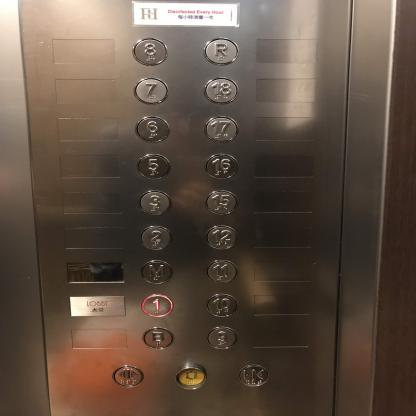1: (138, 292, 175, 319)
10: (204, 291, 240, 318)
11: (204, 258, 240, 285)
12: (204, 224, 241, 251)
15: (204, 189, 240, 216)
16: (204, 152, 241, 180)
17: (202, 115, 239, 143)
18: (202, 76, 240, 105)
2: (138, 224, 174, 252)
3: (137, 189, 173, 216)
5: (136, 151, 174, 181)
6: (134, 114, 172, 144)
7: (132, 76, 170, 106)
8: (130, 36, 171, 66)
9: (205, 324, 239, 350)
B: (141, 326, 174, 350)
M: (138, 258, 174, 284)
R: (201, 36, 241, 66)
alarm: (175, 365, 209, 390)
close: (236, 363, 270, 388)
open: (111, 364, 145, 388)
